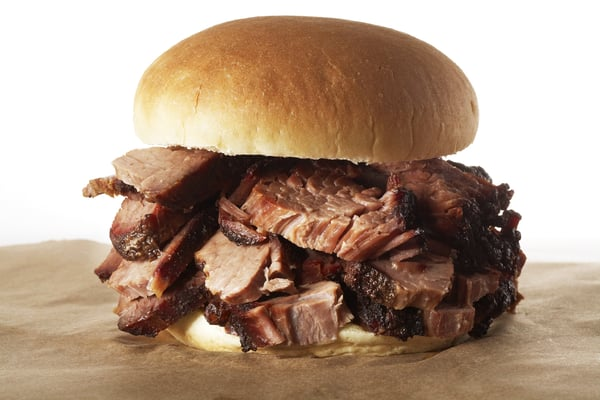soup: (77, 14, 513, 349)
